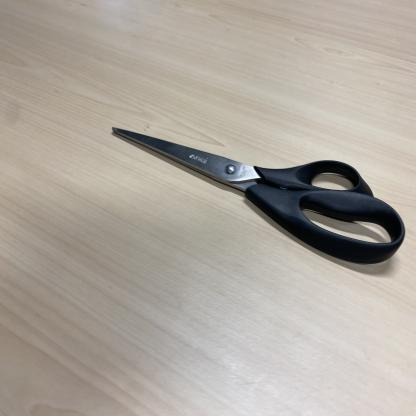scissors: (109, 126, 406, 266)
